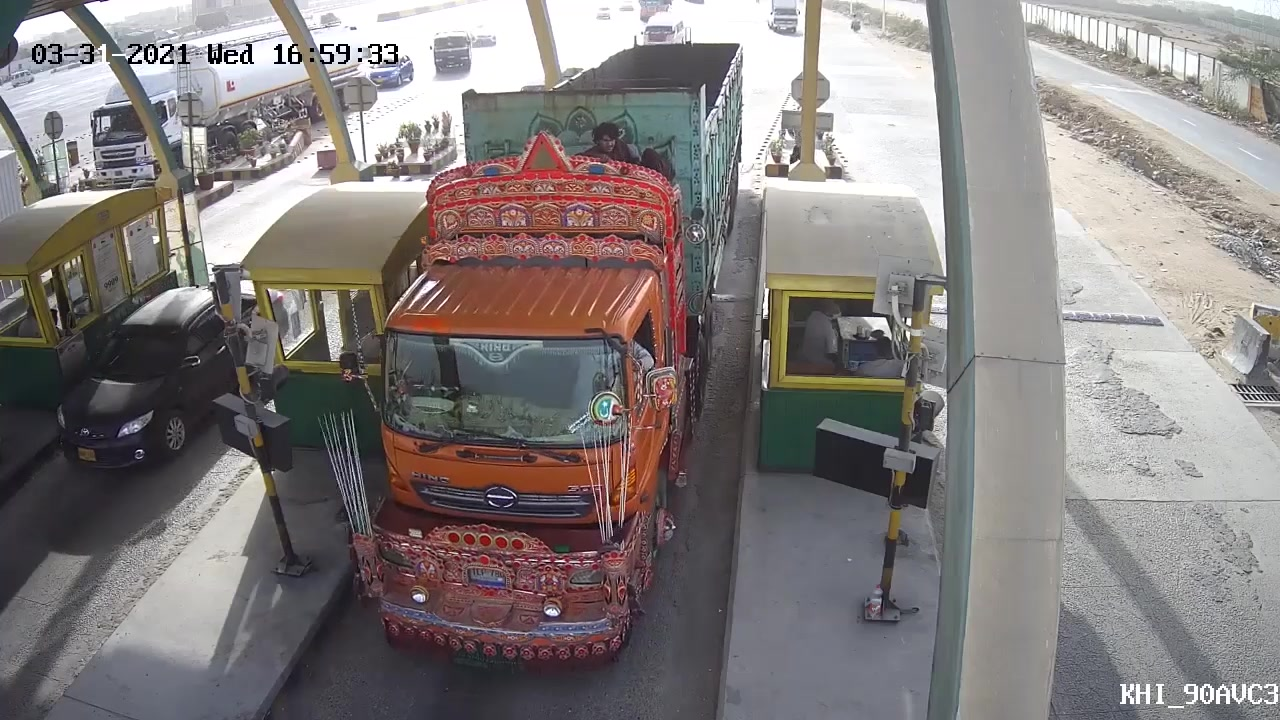F6: (349, 37, 750, 665)
